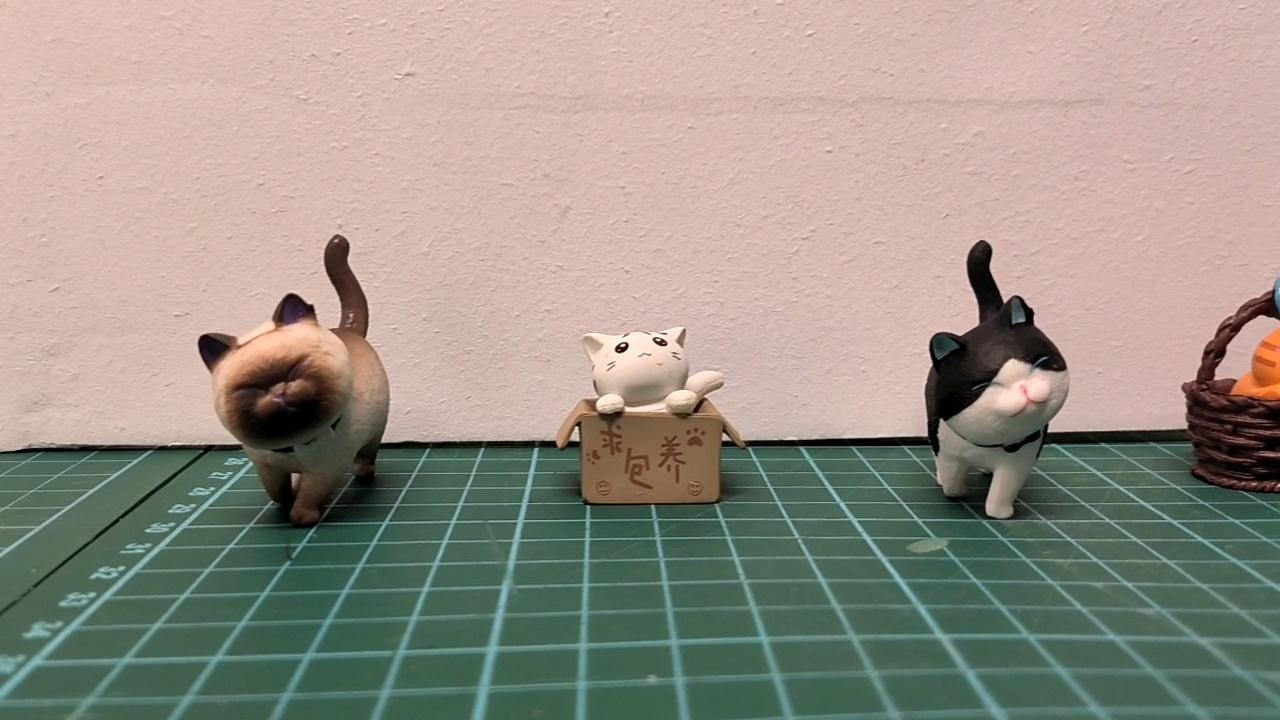pet: (196, 231, 394, 531), (928, 236, 1067, 519), (581, 321, 727, 416)
